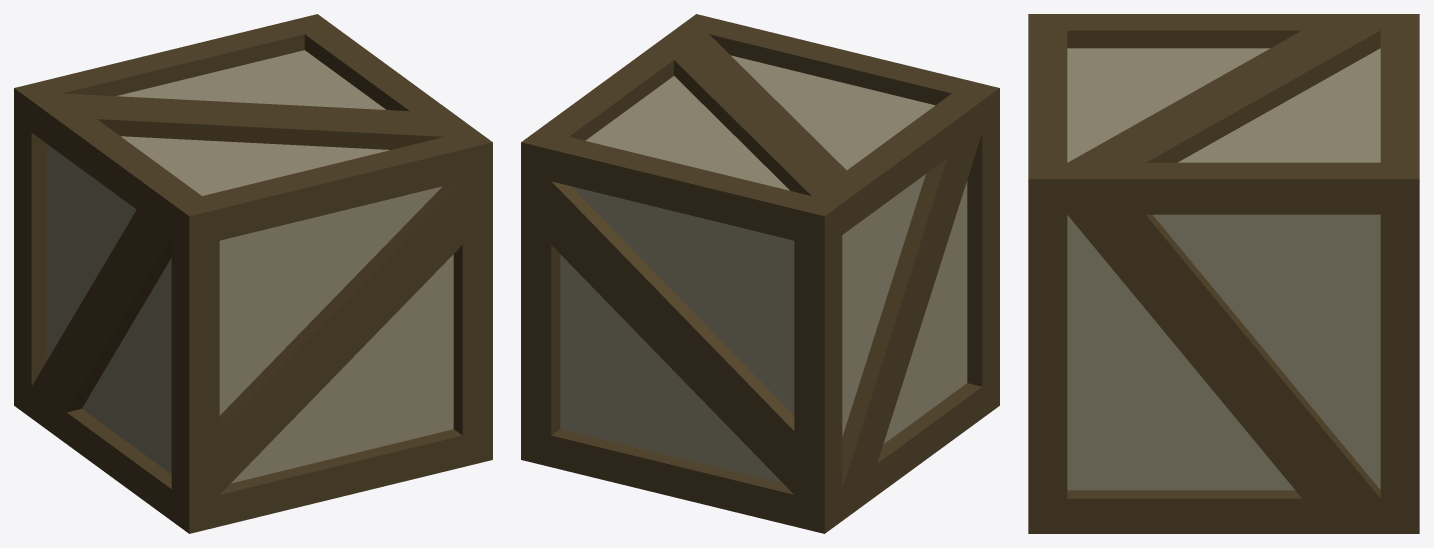
File: fantasy_crate_1.fbx
3 renders of one model, left to right at view 1: azimuth 30°, elevation 25°; view 2: azimuth 150°, elevation 25°; view 3: azimuth 270°, elevation 25°, orthographic. The views are drawn at different scales.
Parts seen in each view (by area): view 1: Cube.058; view 2: Cube.058; view 3: Cube.058.
Part boxes in pixels (x1,y1,x2,y2): Cube.058: (14,14,492,533); Cube.058: (521,14,999,533); Cube.058: (1028,14,1419,533).
Size of the model in its own units: 100 by 100 by 100.
